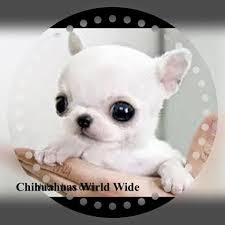chihuahua: (32, 25, 209, 197)
